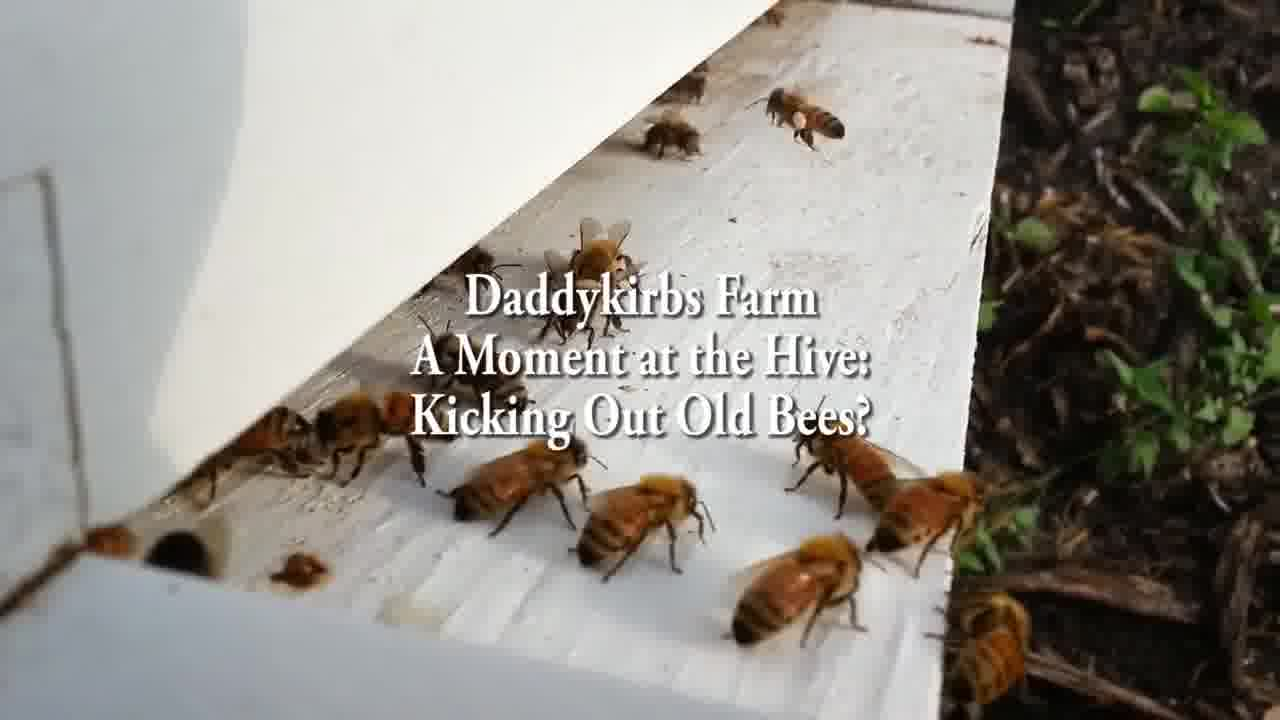pollen: (755, 81, 853, 158)
